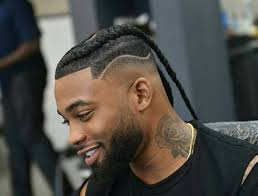black_male: (35, 19, 154, 192)
